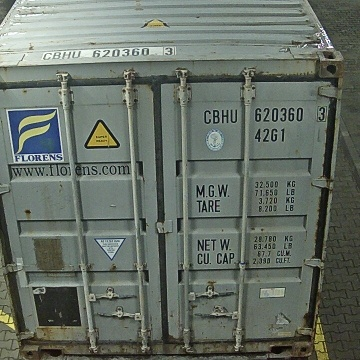serial_id: (201, 106, 326, 124)
